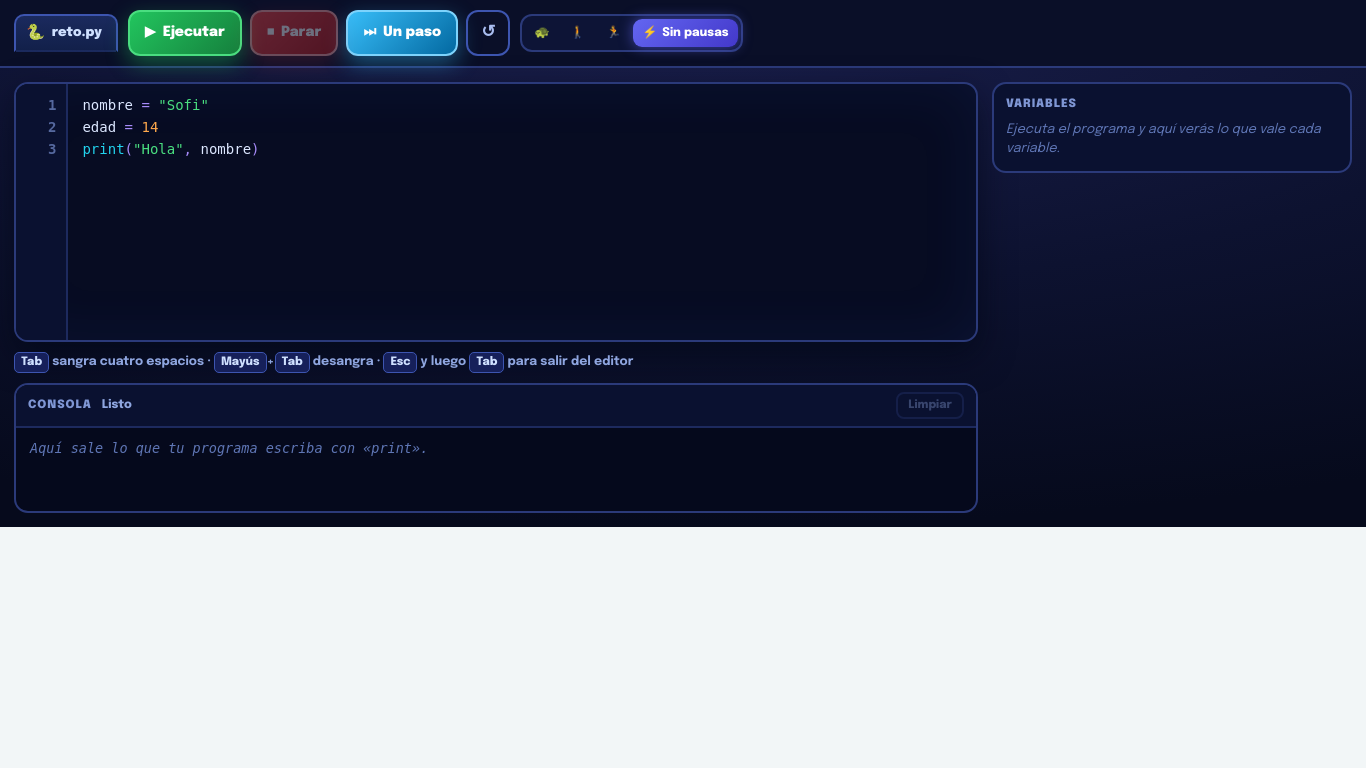
Test: ejecutar de verdad › ▶ imprime en la consola y deja las variables en el panel
Click the button with test id "cod-ejecutar" at [185, 33], box top-left (128, 10), bottom-right (242, 56)
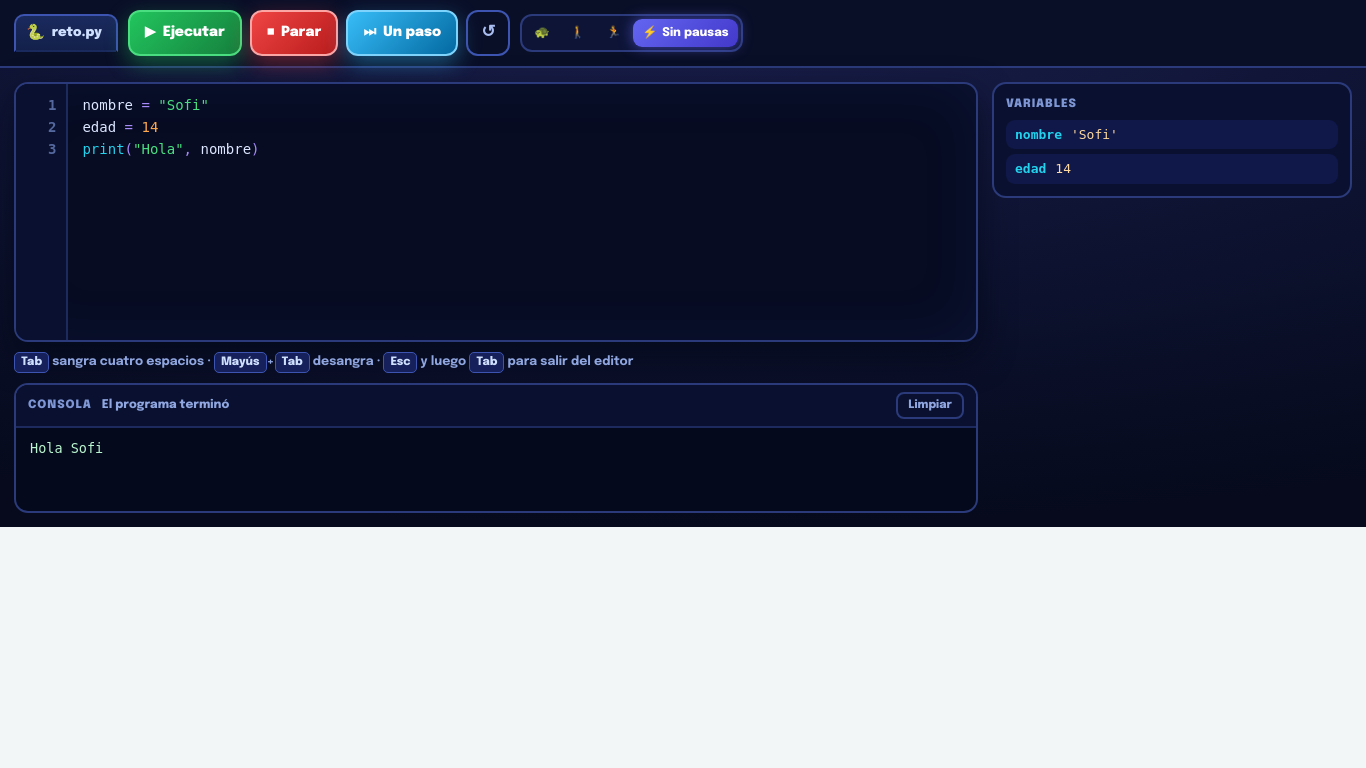
Now the text "Hola Sofi" is shown, box top-left (30, 440), bottom-right (103, 456)
Now the element with test id "cod-variables" shows "nombre", box top-left (1015, 127), bottom-right (1062, 142)
Now the element with test id "cod-variables" shows "edad", box top-left (1015, 161), bottom-right (1046, 176)
